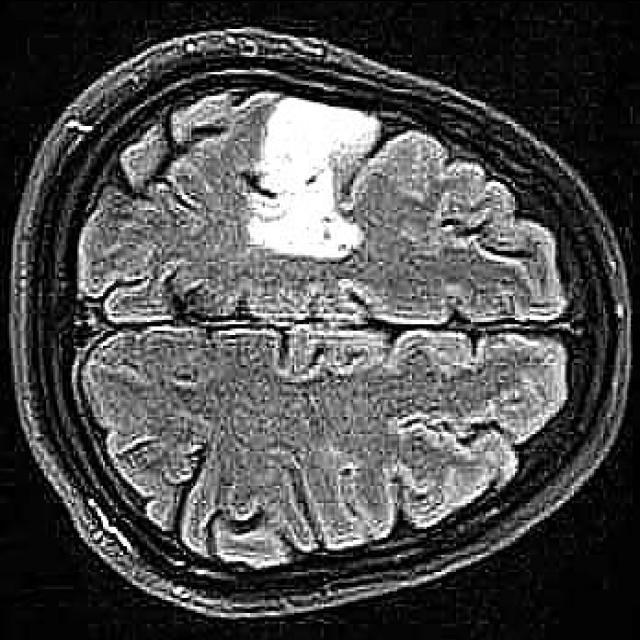tumor: (248, 95, 384, 259)
